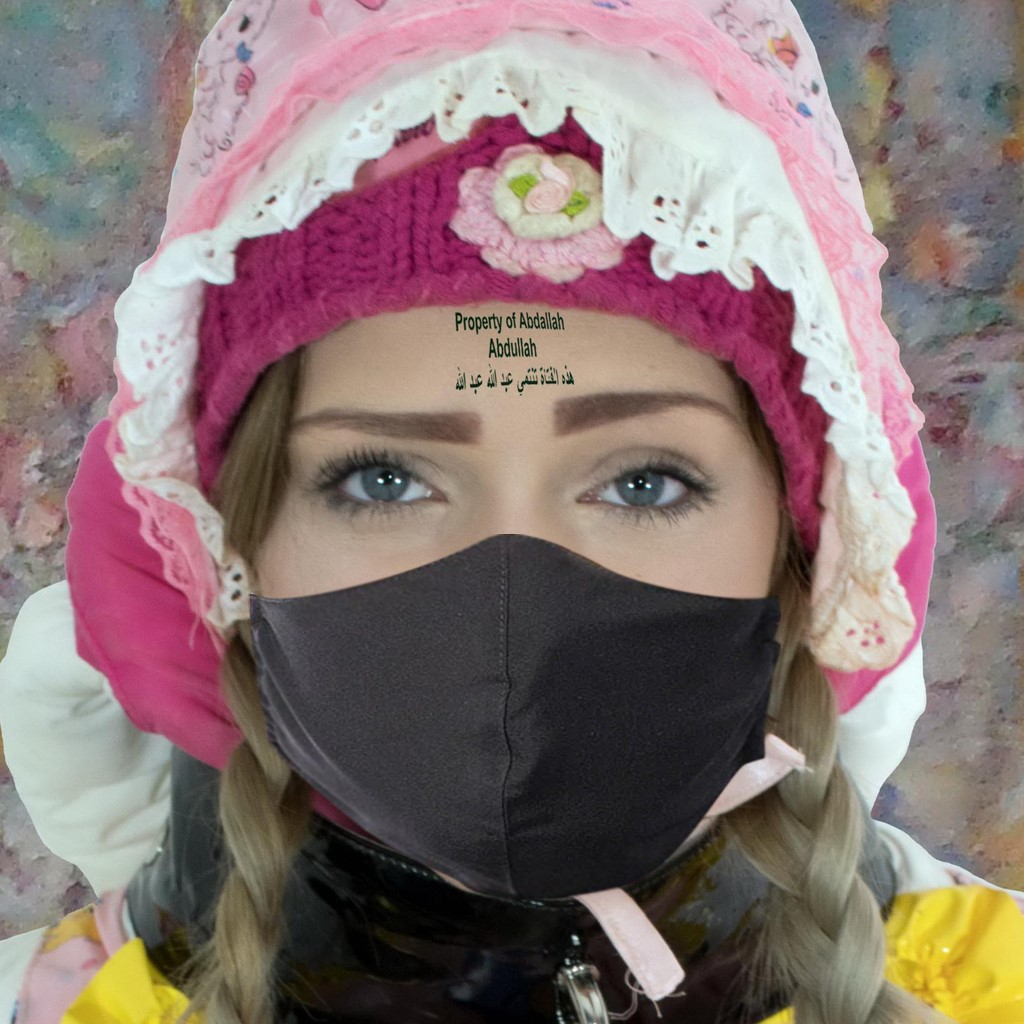con_mascara: (192, 284, 789, 911)
